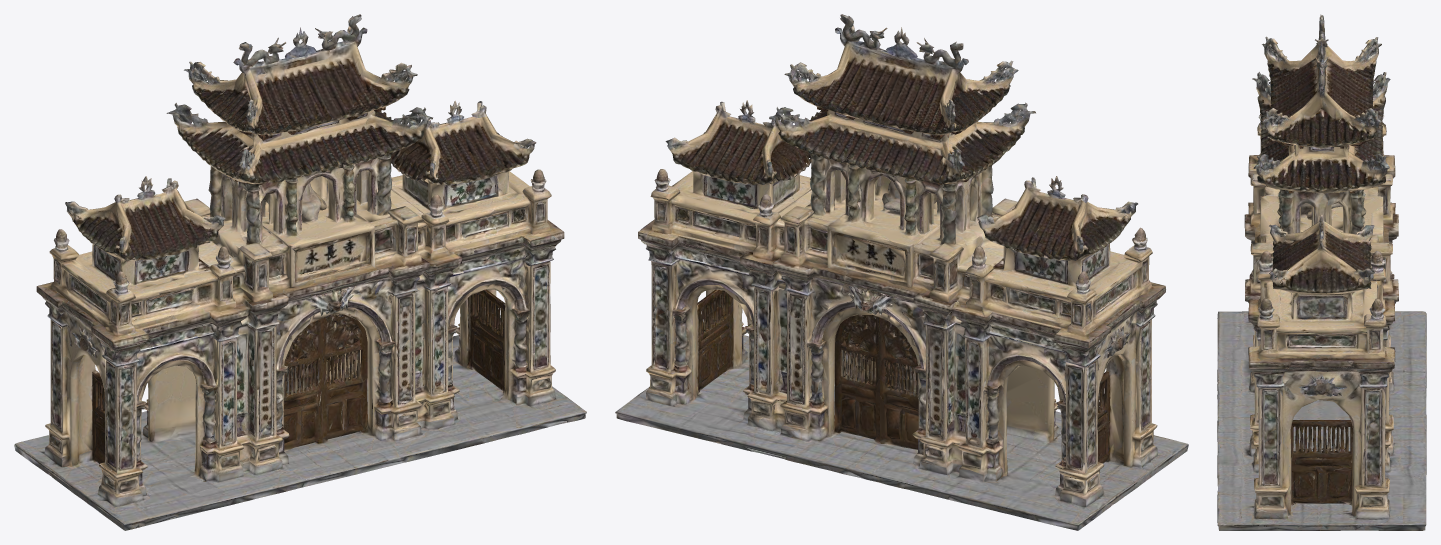
The model's file is tam-quan-vinh-trang.glb.
The picture shows the model from 3 angles, left to right: view 1: azimuth 30°, elevation 25°; view 2: azimuth 150°, elevation 25°; view 3: azimuth 270°, elevation 25°; orthographic projection. The views are drawn at different scales.
Size of the model in its own units: 1.9 by 1.6 by 0.7895.
1 material, 1 textured.
